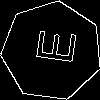E: (26, 26, 77, 66)
